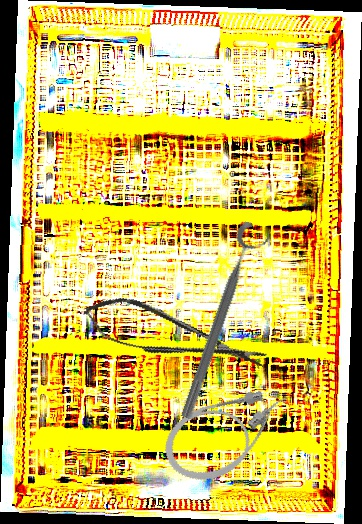Cannula: (153, 374, 306, 494)
Fixation Ring: (174, 219, 275, 426)
Micro Scissor: (78, 286, 271, 388)
